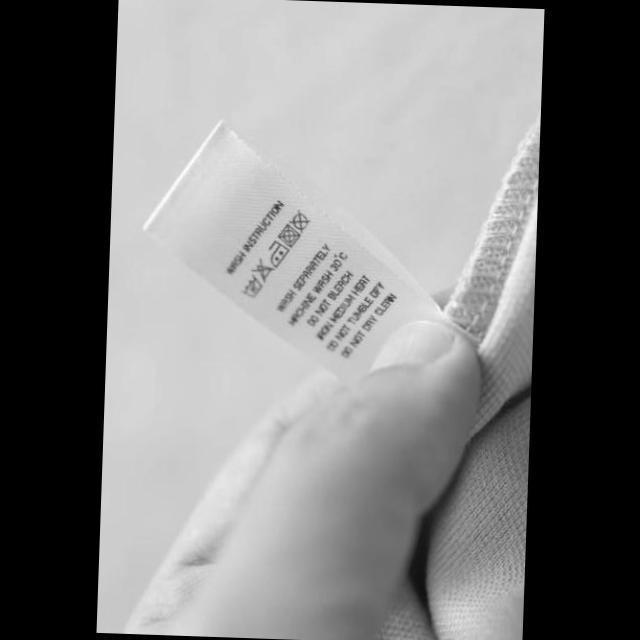30C: (240, 272, 264, 298)
DN_bleach: (249, 255, 276, 283)
DN_dry_clean: (288, 206, 313, 233)
DN_tumble_dry: (276, 220, 302, 248)
iron_medium: (266, 237, 290, 268)
